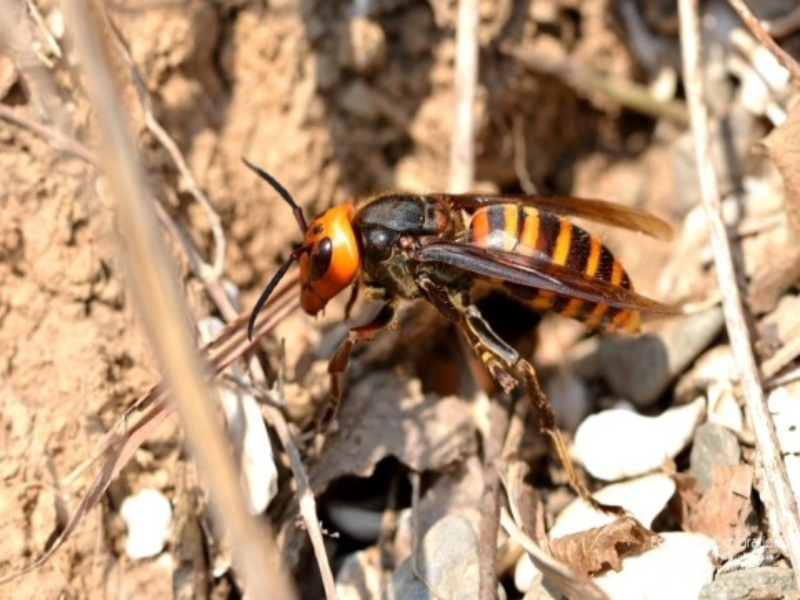asian_giant_hornet: (237, 150, 647, 394)
